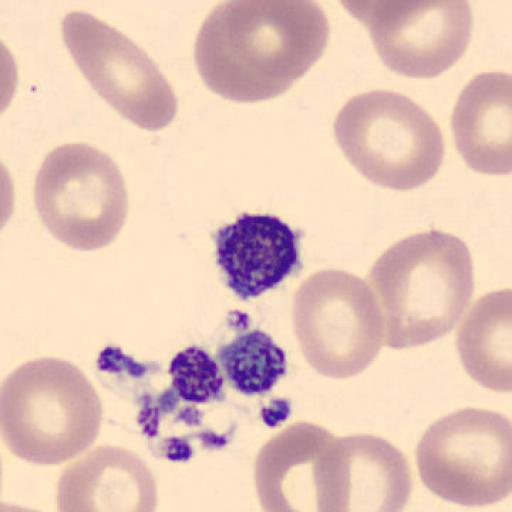Platelet: (210, 209, 308, 303), (214, 326, 291, 398)
RBC: (191, 0, 332, 106), (61, 9, 181, 133), (368, 226, 476, 350), (332, 86, 446, 192), (0, 356, 104, 466), (32, 141, 130, 253), (290, 268, 386, 381), (415, 405, 511, 509), (353, 1, 475, 81), (252, 419, 352, 512), (315, 431, 414, 512), (55, 441, 160, 512), (449, 68, 512, 178), (455, 286, 512, 394), (332, 0, 435, 23), (335, 0, 419, 28), (1, 36, 19, 116), (0, 155, 17, 233), (0, 502, 57, 512)
